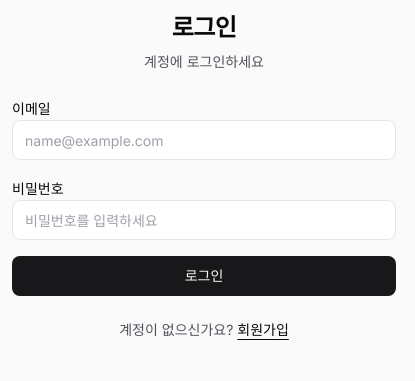
Scenario: Login › 빈 비밀번호 시 에러가 표시된다
Type "test@example.com" into the field labelled "이메일".
click(204, 140); type("test@example.com")  # box [12,120,396,160]
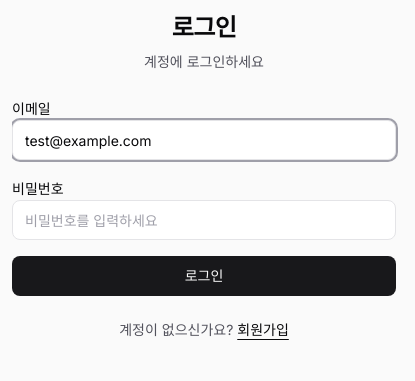
Click the button "로그인".
click(204, 276)  # box [12,256,396,296]
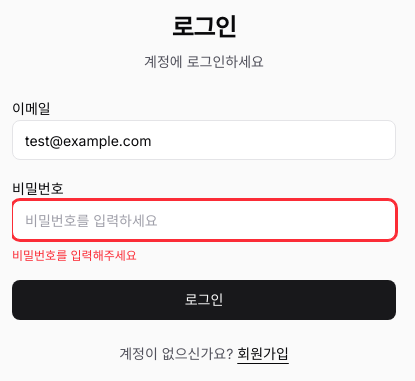
Expected: the text "비밀번호를 입력해주세요" is shown, [12,248,137,263]
